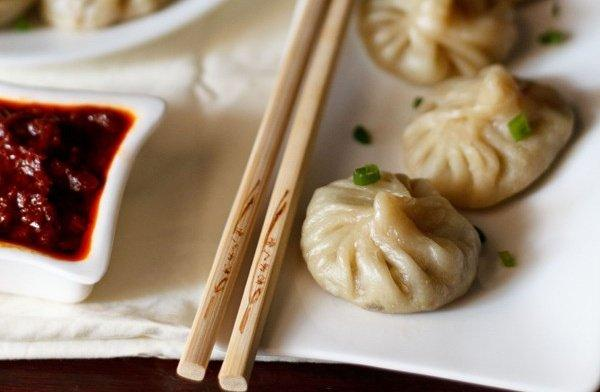momos: (301, 165, 480, 313), (402, 64, 574, 208), (359, 0, 518, 84)
